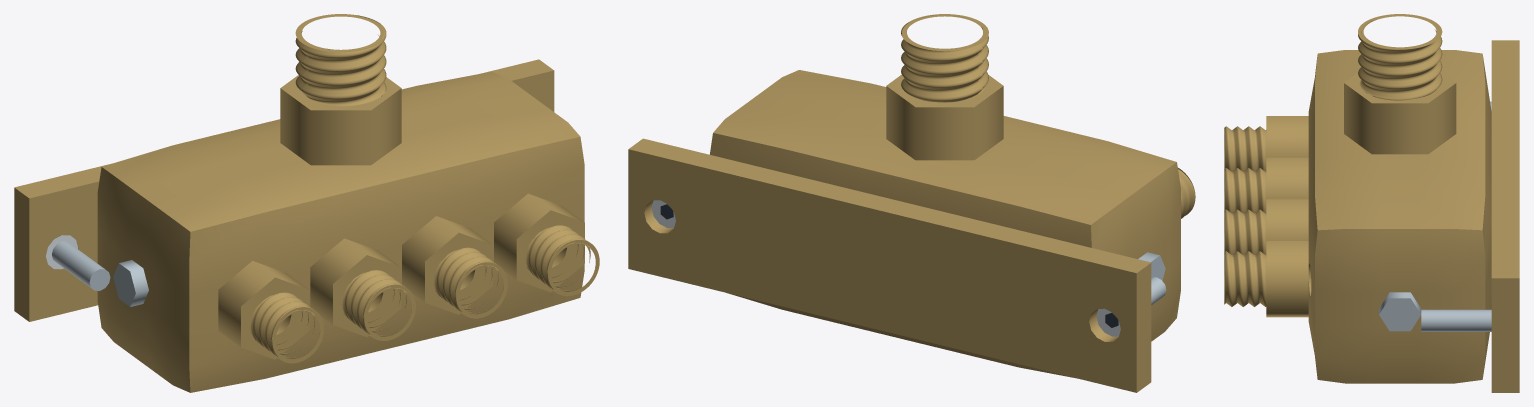
Rendered from distributor.glb.
The picture shows the model from 3 angles, left to right: view 1: azimuth 30°, elevation 25°; view 2: azimuth 150°, elevation 25°; view 3: azimuth 270°, elevation 25°; orthographic projection. The views are drawn at different scales.
Parts seen in each view (by area): view 1: Khối chia, Ren cửa ra (×4), Ren cửa vào, Thân bộ chia; view 2: Khối chia, Ren cửa vào, Thân bộ chia, Ren cửa ra; view 3: Khối chia, Ren cửa ra (×4), Ren cửa vào, Thân bộ chia.
Part boxes in pixels (left/top/right/bottom): Khối chia: left=14, top=59, right=584, bottom=392; Ren cửa ra (×4): left=249, top=225, right=599, bottom=363; Ren cửa vào: left=295, top=14, right=386, bottom=107; Thân bộ chia: left=46, top=235, right=148, bottom=306; Khối chia: left=628, top=70, right=1180, bottom=392; Ren cửa vào: left=901, top=14, right=988, bottom=102; Thân bộ chia: left=651, top=200, right=1166, bottom=336; Ren cửa ra: left=1178, top=168, right=1195, bottom=218; Khối chia: left=1266, top=40, right=1519, bottom=392; Ren cửa ra (×4): left=1224, top=126, right=1266, bottom=306; Ren cửa vào: left=1358, top=14, right=1442, bottom=100; Thân bộ chia: left=1379, top=101, right=1491, bottom=331.
Size of the model in its own units: 0.8 by 0.42 by 0.42.
